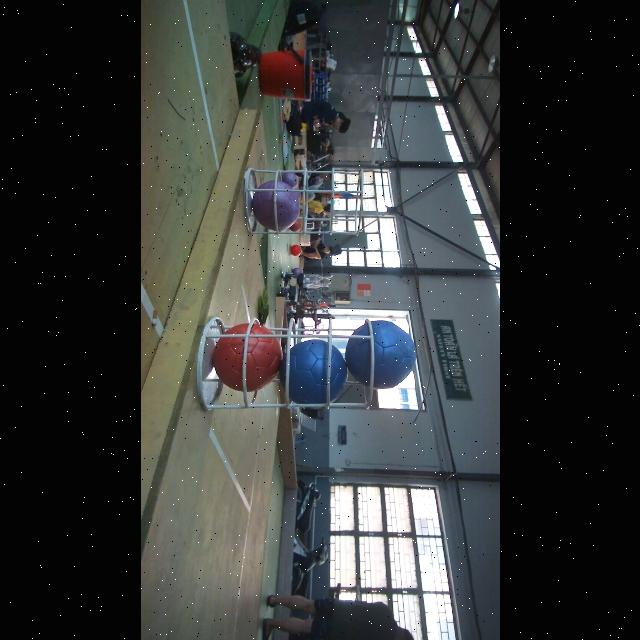B: (348, 320, 418, 392), (280, 341, 346, 407)
R: (214, 324, 284, 388)
